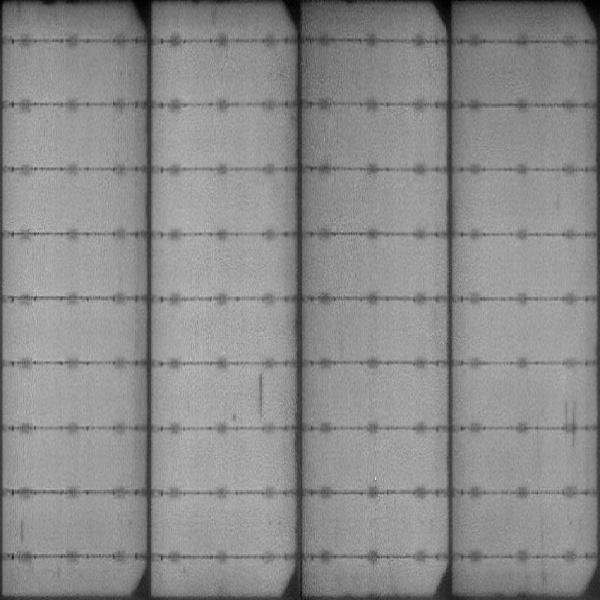scratch: (560, 402, 580, 434), (257, 374, 268, 417)
